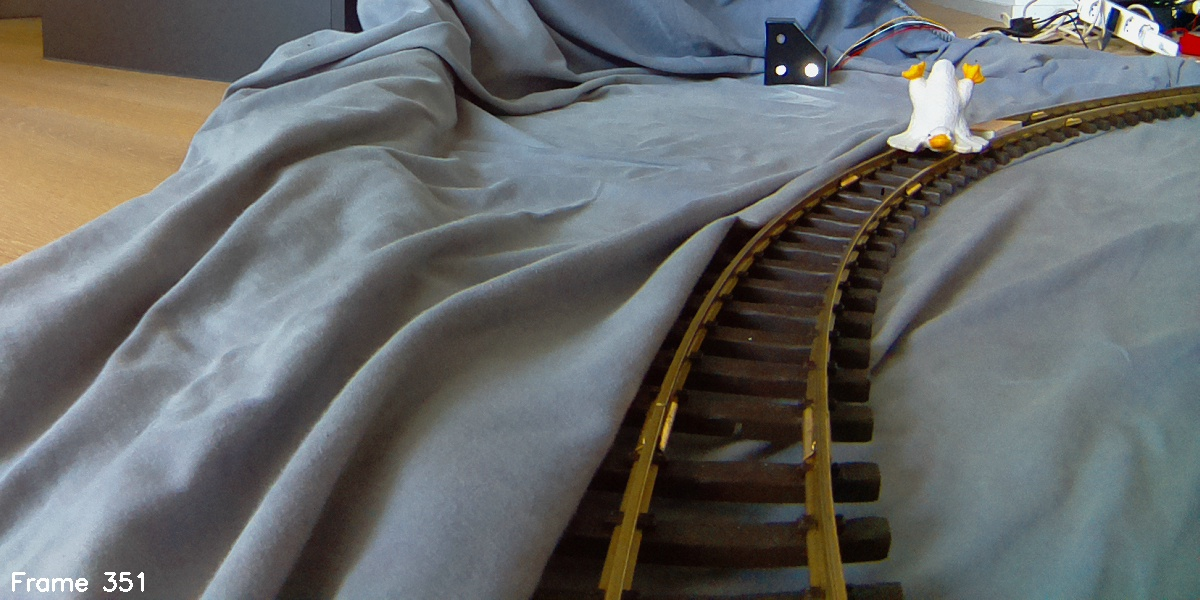Ente: (884, 57, 993, 162)
Halt: (762, 15, 828, 90)
